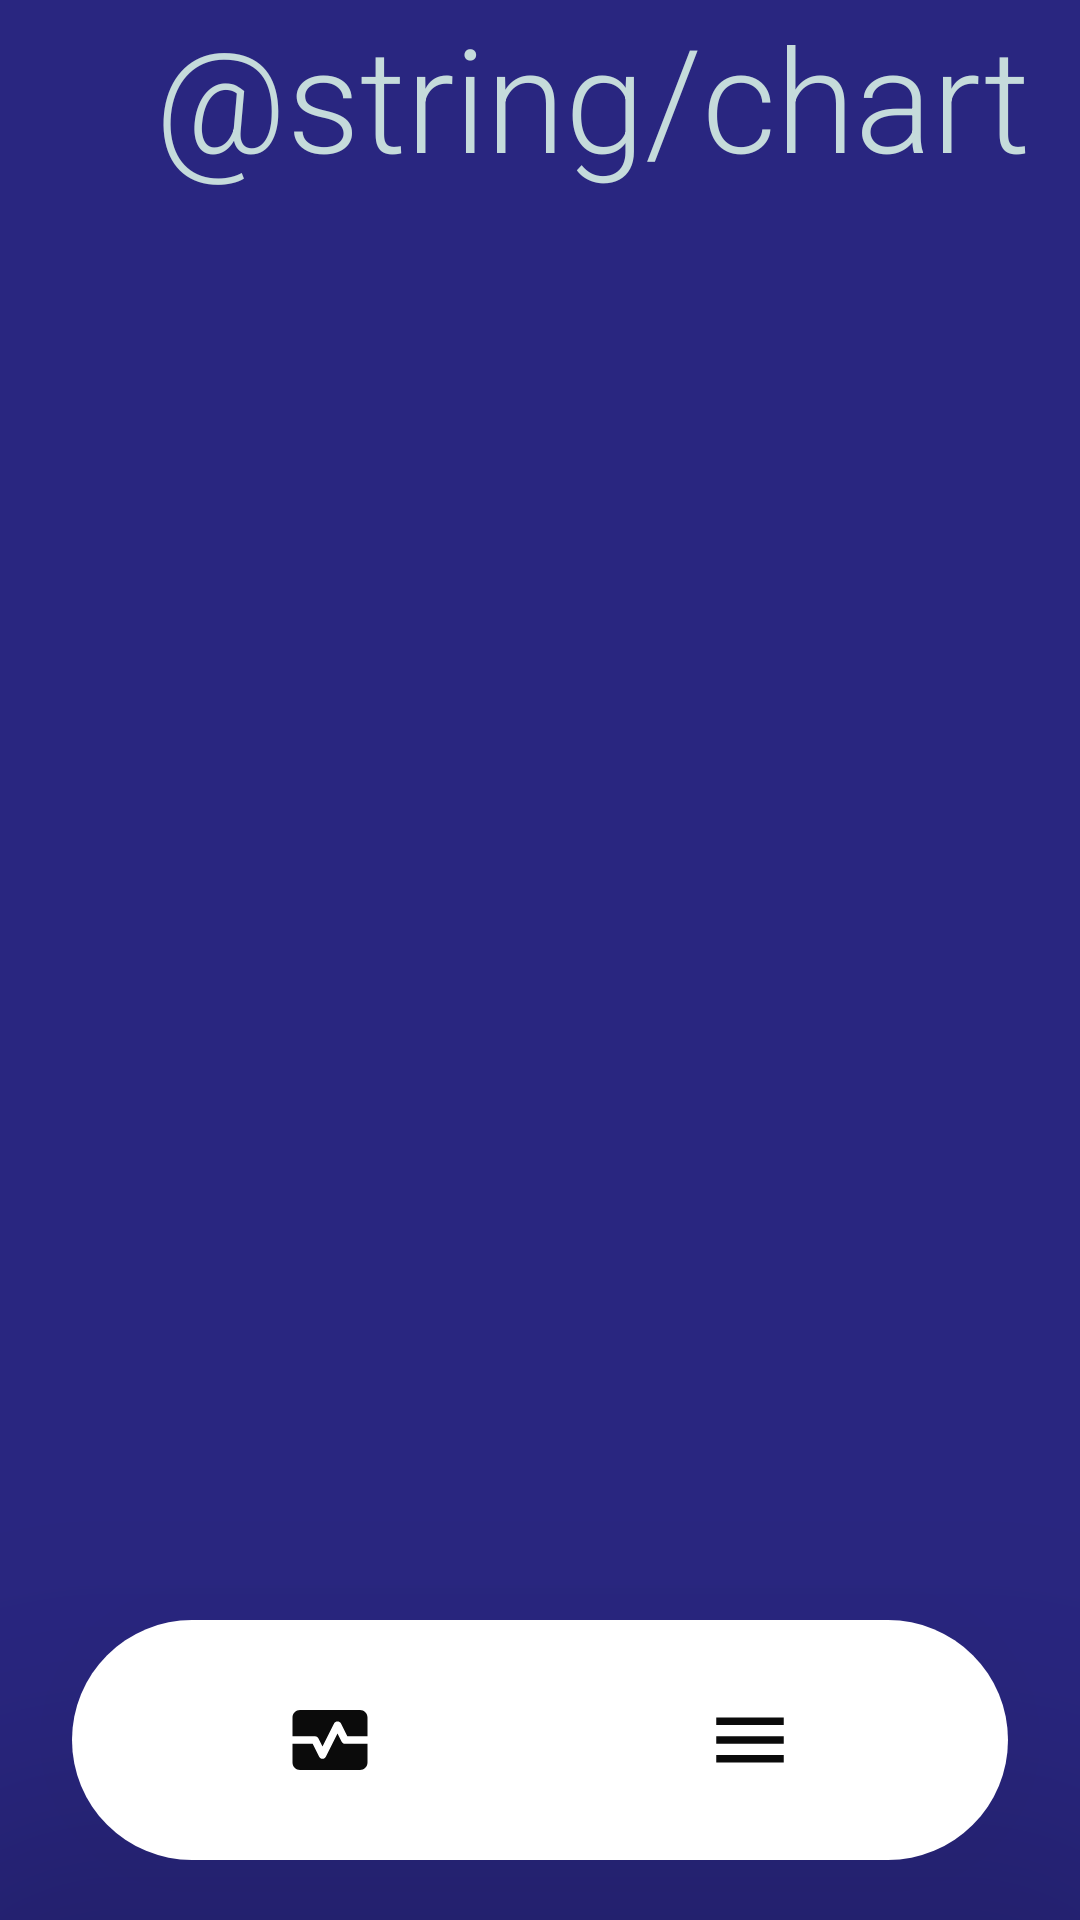

Screen size 1080 x 1920. Icon name, then its center in pixels as point (x, y):
hamburger menu: point (750, 1740)
